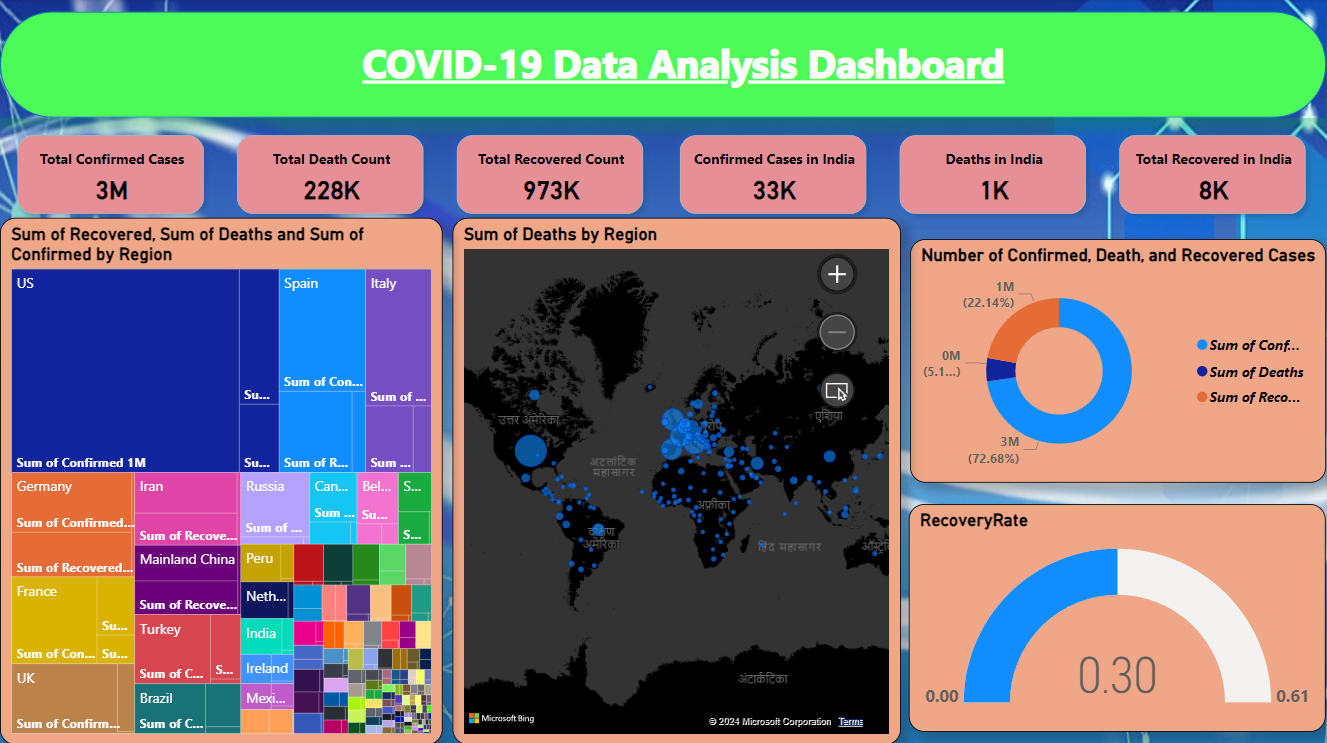

Layout of this report page (visuals, bound fields, positions):
{"tool":"powerbi","page":{"name":"Page 1","canvas":[1280,720],"ordinal":0},"visuals":[{"type":"shape","box":[0,12.5,1280,102.5],"z":0},{"type":"textbox","box":[287.5,31.2,745,71.2],"z":1000},{"type":"cardVisual","fields":{"Data":["Sum(Worksheet.Confirmed)","Sum(Worksheet.Deaths)","Sum(Worksheet.Recovered)"]},"box":[0,115,640,110],"z":2000},{"type":"cardVisual","fields":{"Data":["Worksheet.TotalConfirmedIndia","Worksheet.TotalDeathsIndia","Worksheet.TotalRecoveredIndia"]},"box":[640,115,640,110],"z":3000},{"type":"donutChart","title":"Number of Confirmed, Death, and Recovered Cases","fields":{"Y":["Sum(Worksheet.Confirmed)","Sum(Worksheet.Deaths)","Sum(Worksheet.Recovered)"]},"box":[878.8,231.2,401.2,235],"z":4000},{"type":"map","fields":{"Category":["Worksheet.Region"],"Size":["Sum(Worksheet.Deaths)"]},"box":[436.2,211.2,432.5,508.8],"z":5000},{"type":"treemap","fields":{"Values":["Sum(Worksheet.Recovered)","Sum(Worksheet.Deaths)","Sum(Worksheet.Confirmed)"],"Group":["Worksheet.Region"]},"box":[0,211.2,427.5,508.8],"z":6000},{"type":"gauge","fields":{"Y":["Worksheet.RecoveryRate"]},"box":[877.5,487.5,402.5,220],"z":6001}]}

Visuals, with their boxes in screenshot pixels (x1, y1, x2, y2), scaled from the page's 1280x720 canvas onto the 1327x743 screenshot:
shape: x1=0 y1=13 x2=1326 y2=119
textbox: x1=298 y1=32 x2=1070 y2=106
cardVisual - Sum(Worksheet.Confirmed) x Sum(Worksheet.Deaths): x1=0 y1=119 x2=664 y2=232
cardVisual - Worksheet.TotalConfirmedIndia x Worksheet.TotalDeathsIndia: x1=664 y1=119 x2=1326 y2=232
"Number of Confirmed, Death, and Recovered Cases" donutChart: x1=911 y1=239 x2=1326 y2=481
map - Worksheet.Region x Sum(Worksheet.Deaths): x1=452 y1=218 x2=901 y2=742
treemap - Sum(Worksheet.Recovered) x Sum(Worksheet.Deaths): x1=0 y1=218 x2=443 y2=742
gauge - Worksheet.RecoveryRate: x1=910 y1=503 x2=1326 y2=730
